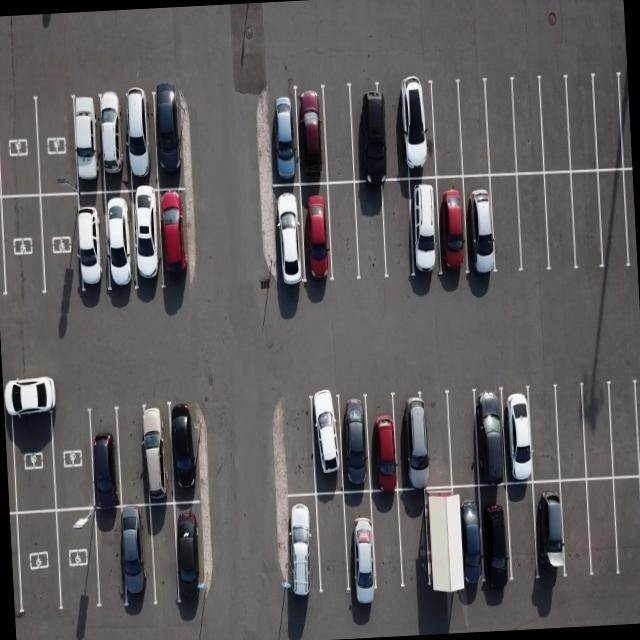car: (55, 506, 102, 610), (283, 492, 325, 604), (347, 80, 392, 182), (130, 406, 174, 508), (419, 491, 460, 600), (340, 487, 380, 598), (446, 488, 486, 598), (173, 501, 214, 608), (156, 188, 199, 289), (298, 182, 338, 288), (120, 505, 160, 610), (476, 482, 516, 586), (470, 390, 512, 489), (460, 172, 499, 278), (394, 392, 436, 490), (70, 190, 108, 298), (532, 478, 572, 580), (272, 183, 309, 292), (103, 188, 141, 294), (85, 406, 124, 509), (128, 188, 166, 292), (398, 84, 438, 182), (336, 394, 376, 492), (363, 394, 403, 491), (167, 403, 206, 502), (497, 388, 537, 484), (432, 174, 468, 280), (408, 177, 445, 280), (120, 91, 157, 192), (307, 395, 345, 493), (296, 86, 332, 186), (153, 91, 189, 190), (70, 94, 104, 196), (269, 89, 303, 188), (98, 94, 132, 192)
free: (8, 401, 56, 514), (50, 401, 98, 510), (12, 511, 60, 619), (39, 192, 86, 302), (0, 193, 46, 301), (34, 94, 80, 196), (314, 493, 355, 603), (116, 404, 160, 506), (502, 478, 542, 584), (366, 492, 406, 597), (580, 479, 621, 581), (556, 480, 596, 582), (0, 90, 38, 197), (377, 180, 417, 280), (326, 183, 364, 286), (321, 83, 360, 183), (441, 391, 481, 488), (278, 401, 318, 498), (527, 385, 566, 484), (578, 382, 616, 483), (599, 168, 635, 274), (567, 169, 604, 272), (90, 507, 127, 610), (394, 490, 432, 590), (542, 172, 579, 274), (552, 382, 590, 481), (146, 504, 182, 608), (516, 172, 553, 273), (592, 74, 630, 172), (488, 173, 524, 276), (351, 182, 388, 281), (421, 395, 457, 492), (512, 80, 548, 176), (536, 78, 572, 174), (562, 76, 598, 172), (427, 83, 462, 179), (482, 80, 517, 176), (457, 81, 492, 176), (607, 379, 640, 479), (612, 476, 640, 579)
